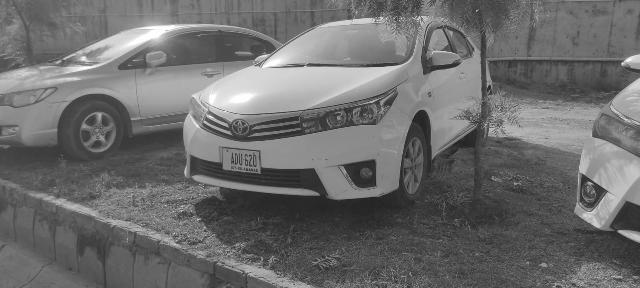Number: (229, 151, 257, 168)
